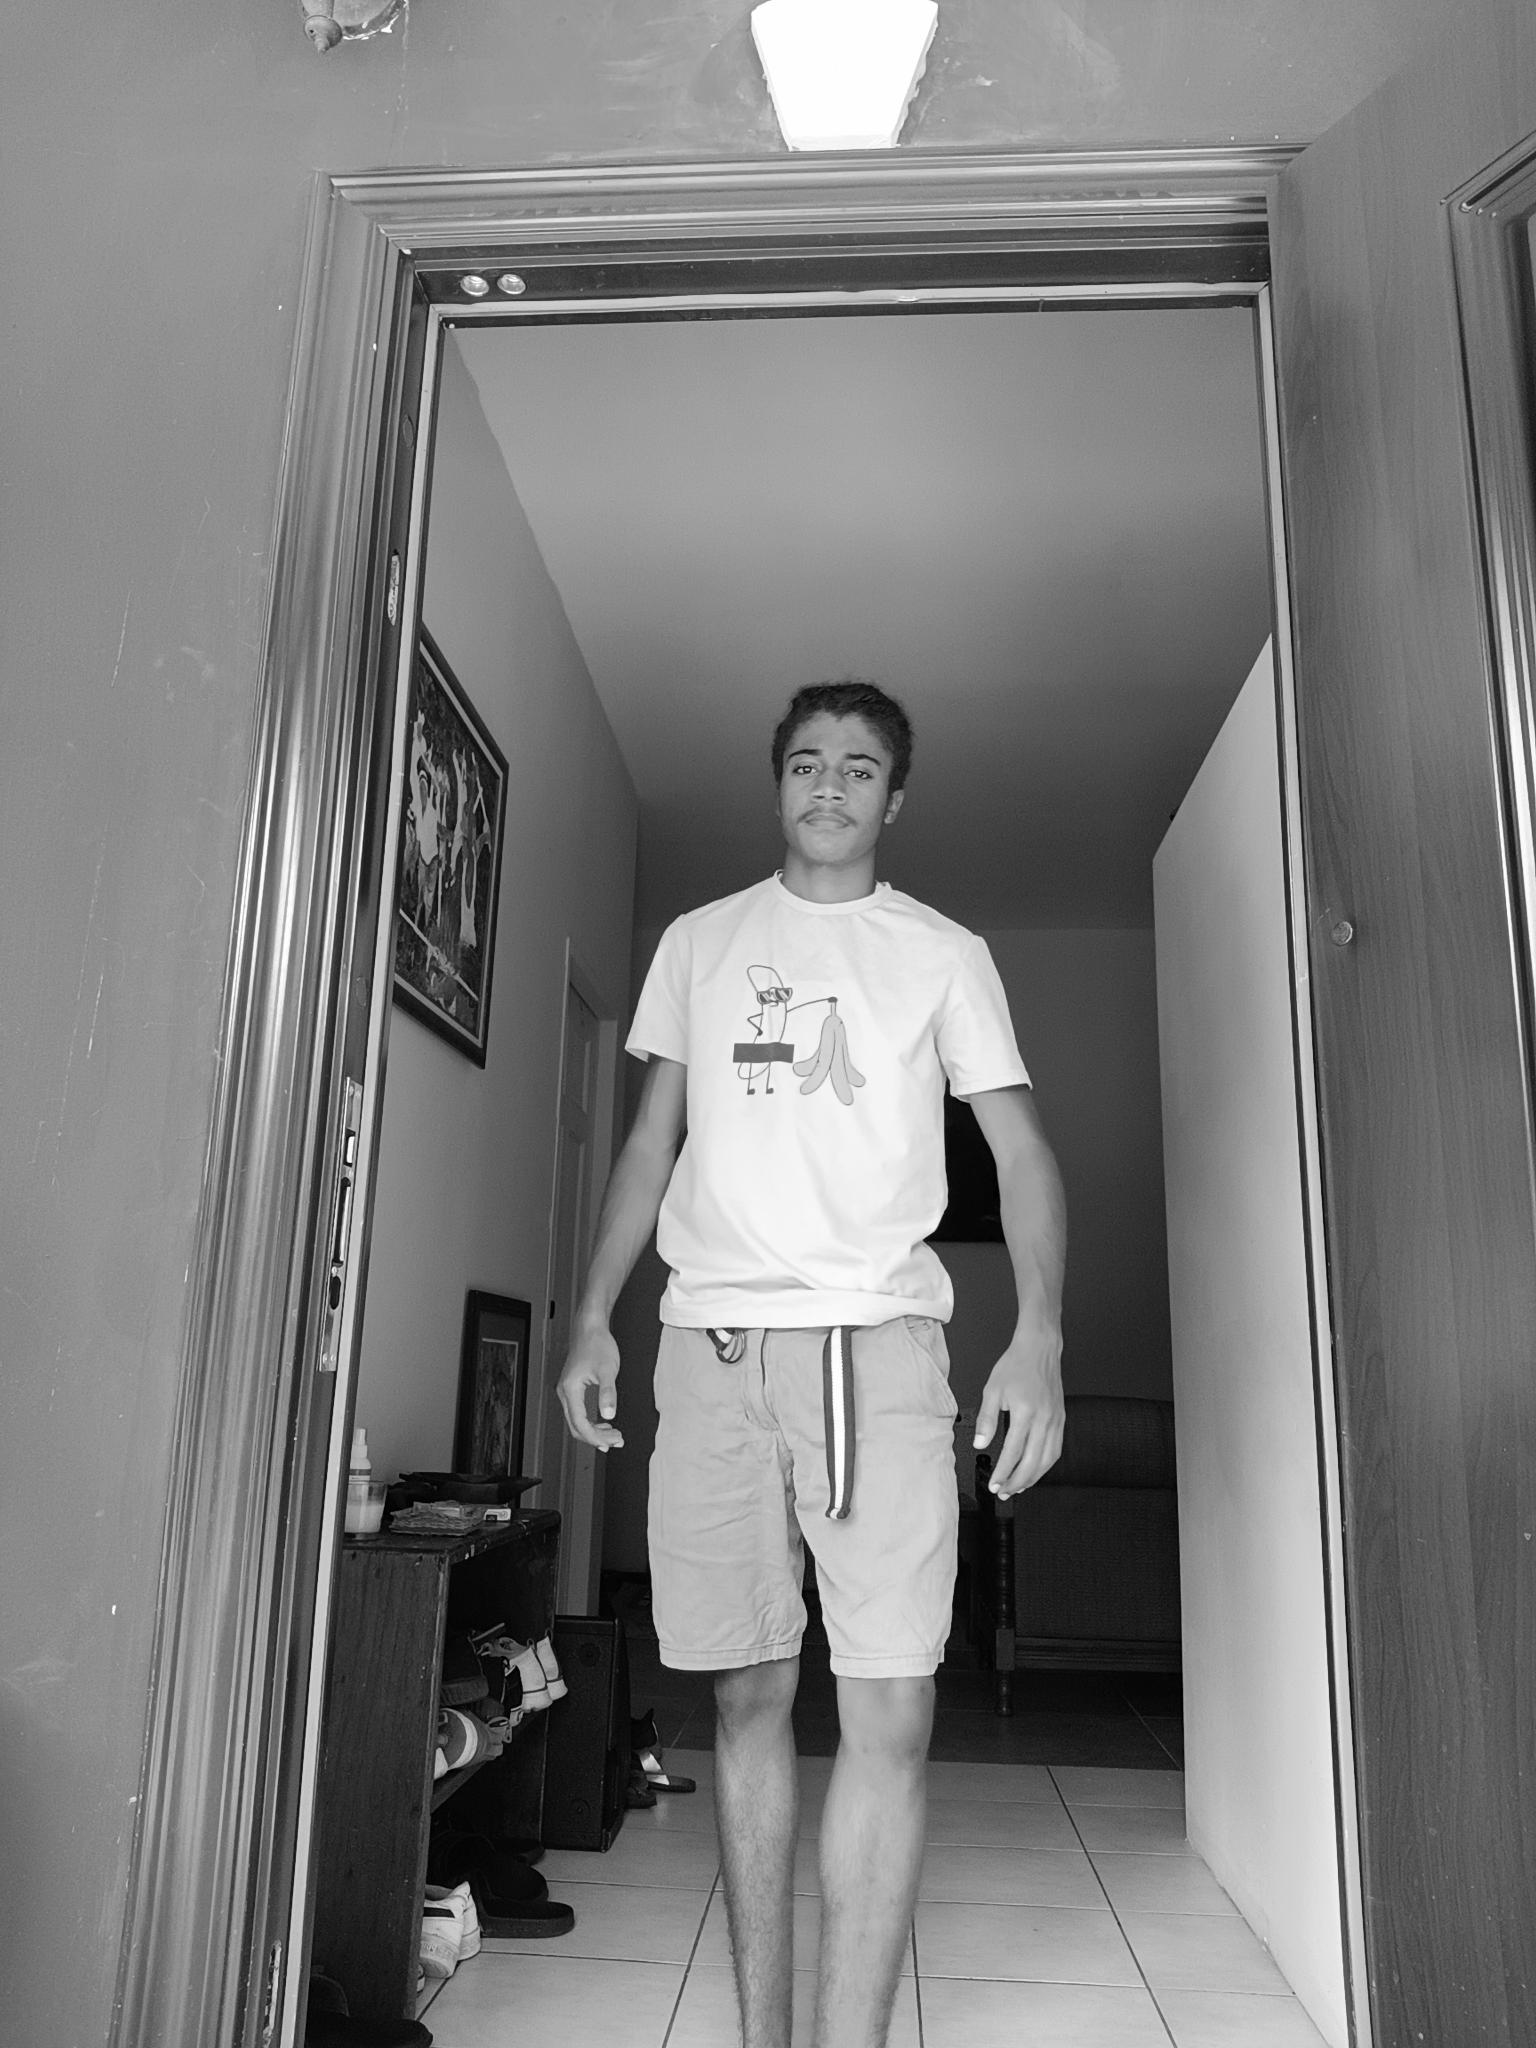front: (550, 674, 1075, 2040)
